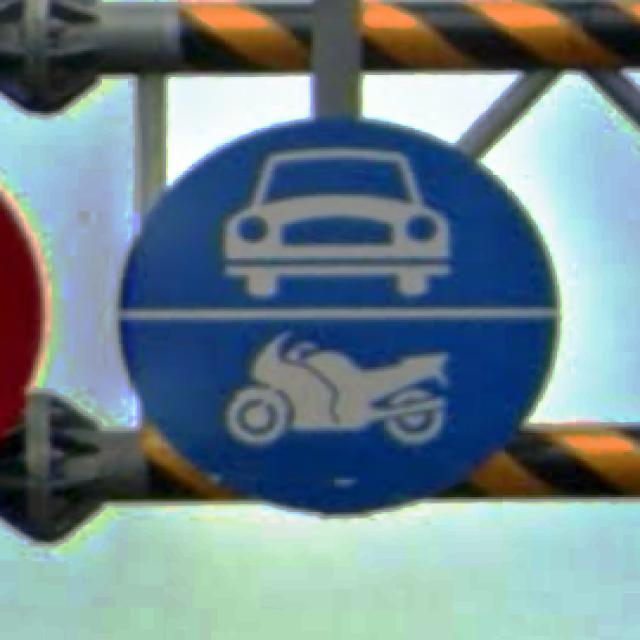carmotorcycle: (114, 111, 562, 514)
